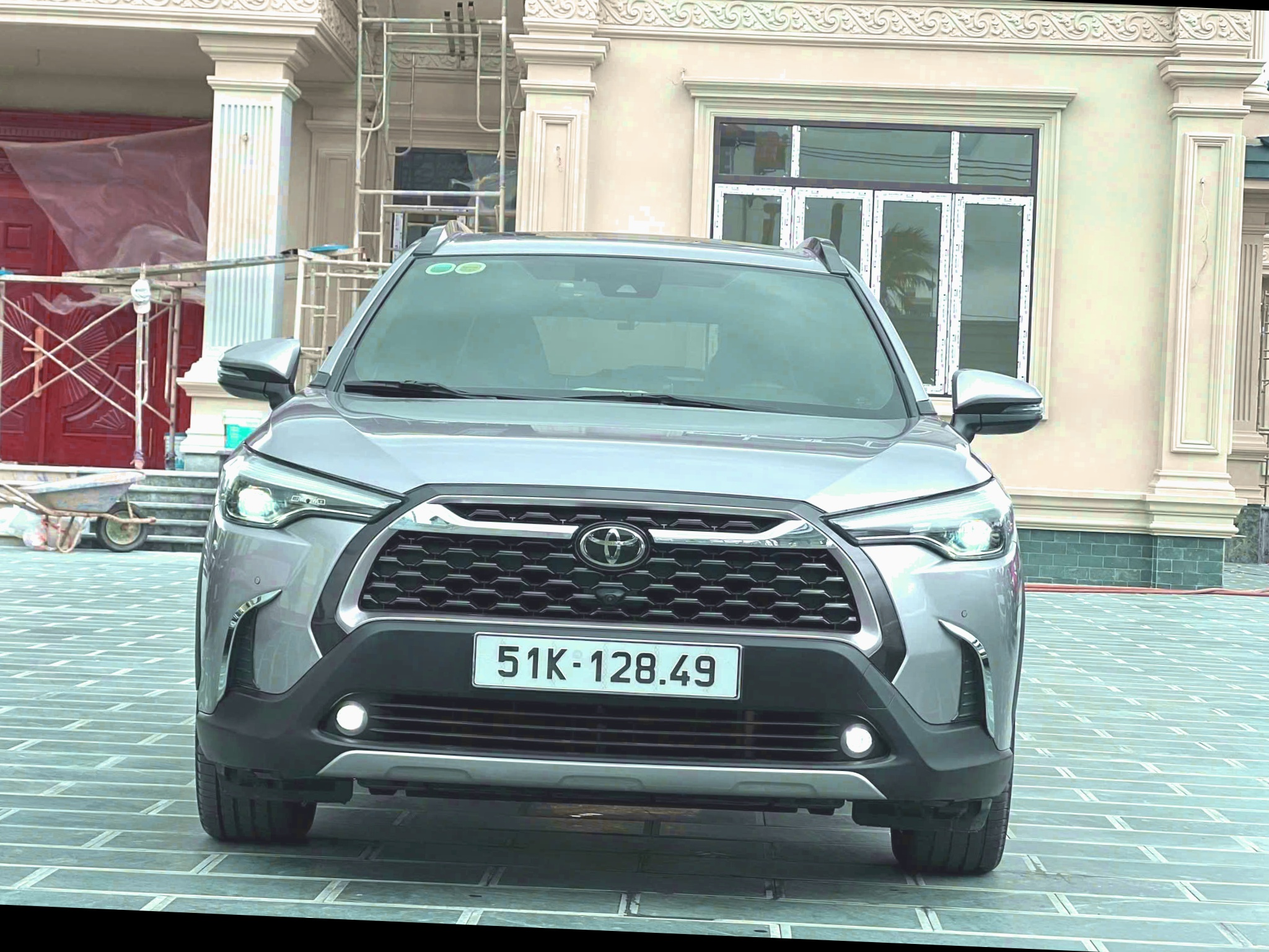Bien-so: (466, 639, 747, 710)
